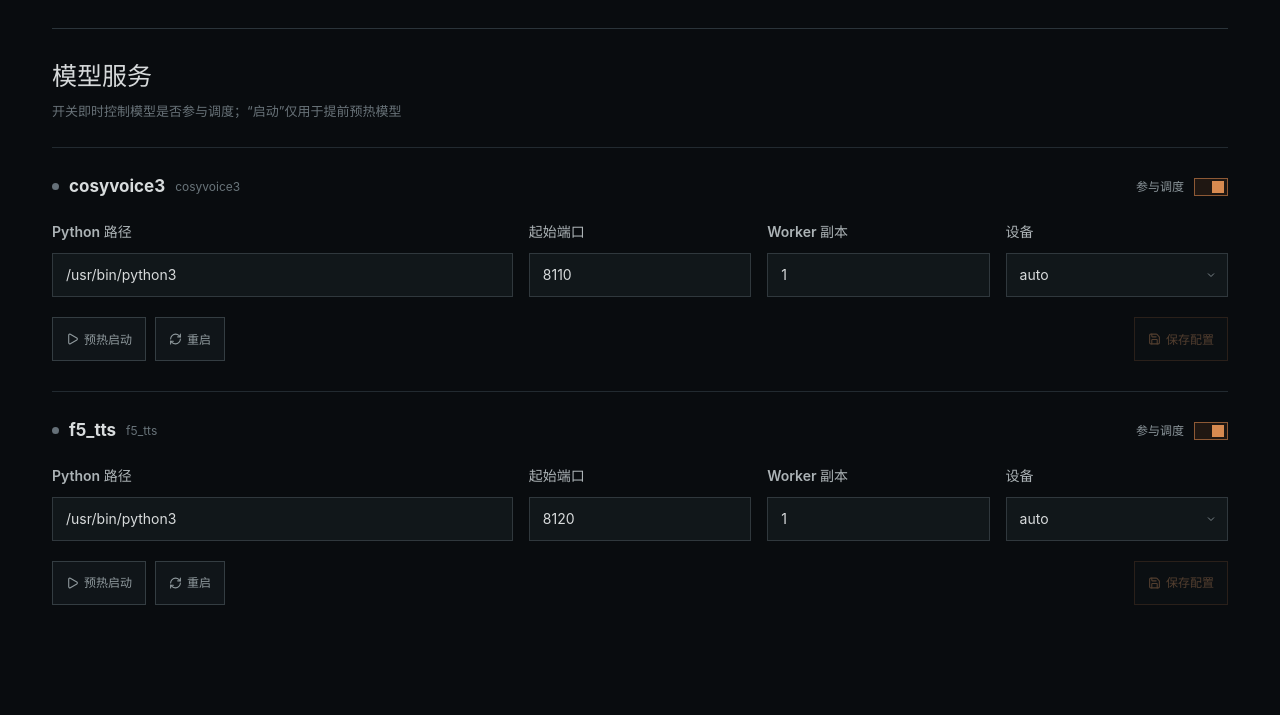
Test case: SettingsPage model scheduling toggle › immediately disables scheduling and refreshes cluster capacity
(page scrolled)
Click the checkbox named "停用 f5_tts". click: (1211, 431)
box: [1194,422,1228,440]
(page scrolled)
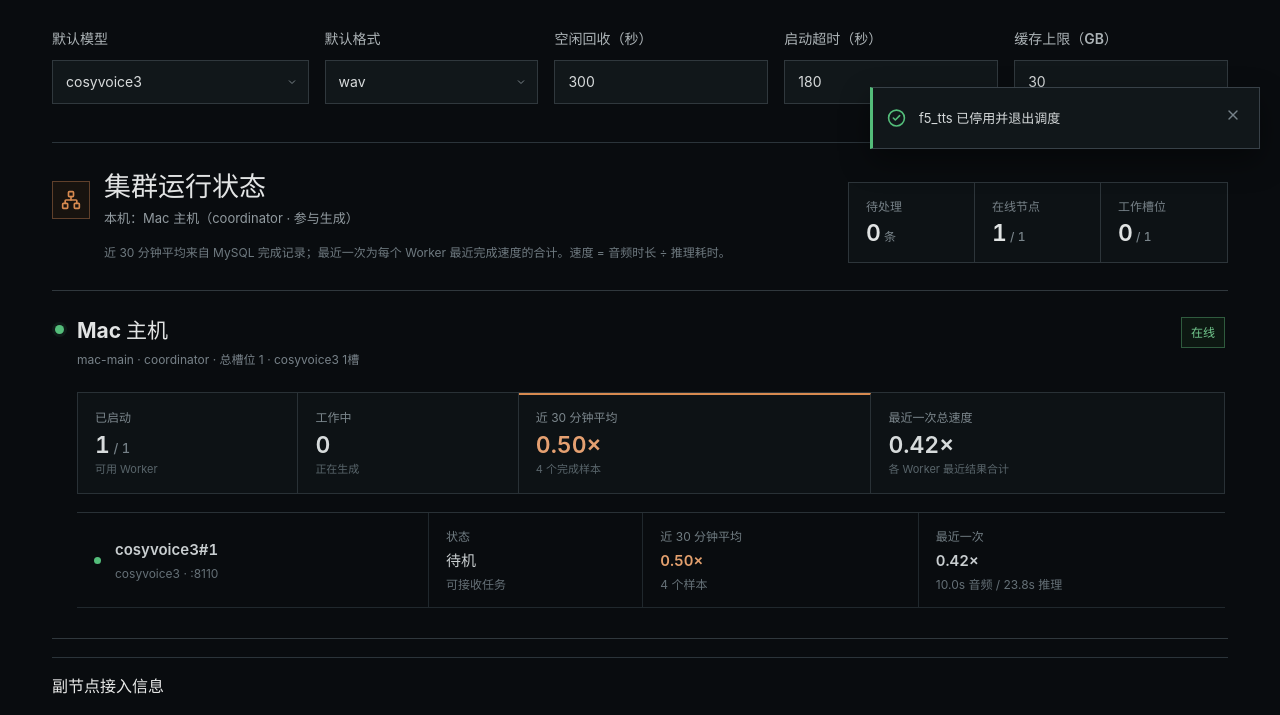
Expected: the text "f5_tts 已停用并退出调度" is shown, [919,110,1060,126]
Expected: the text "mac-main · coordinator · 总槽位 1 · cosyvoice3 1槽" is shown, [77,350,359,370]
